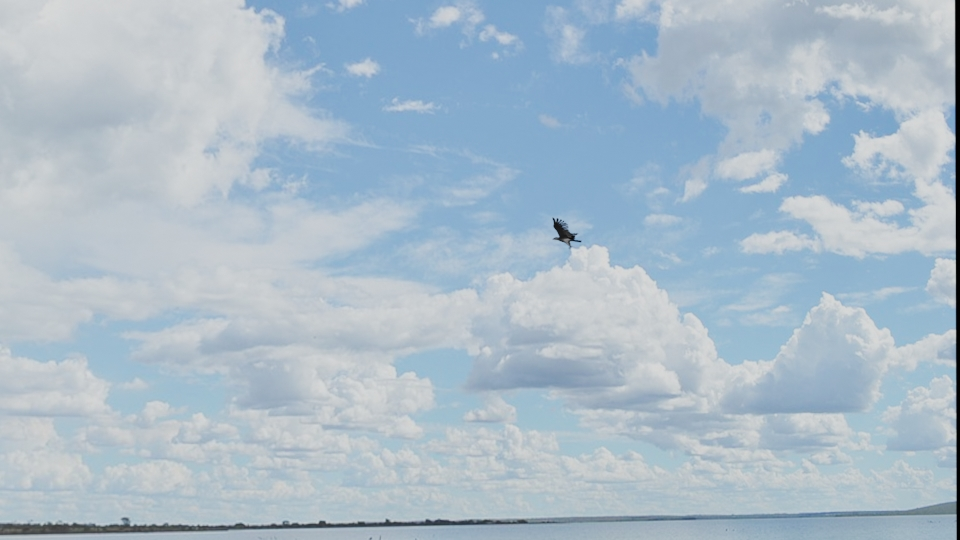bird: (552, 217, 583, 249)
